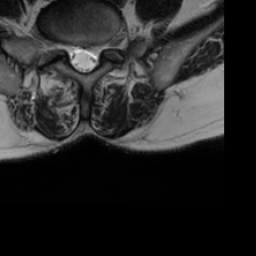CCS_normal: (78, 36, 89, 83)
LFS_stenosis: (100, 30, 110, 61)
LLS_normal: (89, 36, 100, 75)
RFS_stenosis: (57, 32, 67, 60)
RLS_normal: (67, 36, 78, 77)
